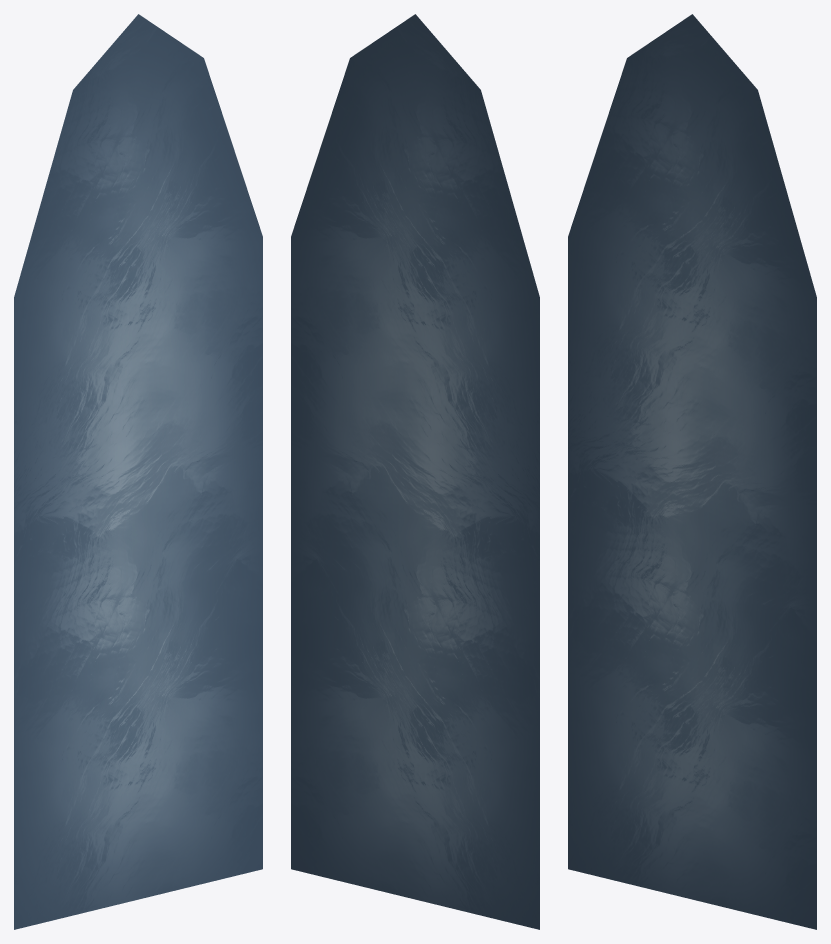
The model's file is Window_3_glass.FBX.
3 renders of one model, left to right at view 1: azimuth 30°, elevation 25°; view 2: azimuth 150°, elevation 25°; view 3: azimuth 330°, elevation 25°, orthographic.
Parts seen in each view (by area): view 1: Window_3_glass; view 2: Window_3_glass; view 3: Window_3_glass.
Boxes of the visible parts, x1,y1,x2,y2 form: Window_3_glass: [14, 14, 262, 929]; Window_3_glass: [291, 14, 539, 929]; Window_3_glass: [568, 14, 816, 929].
Size of what is drawn, in the model's own units: 50.83 by 2.78e-05 by 173.
